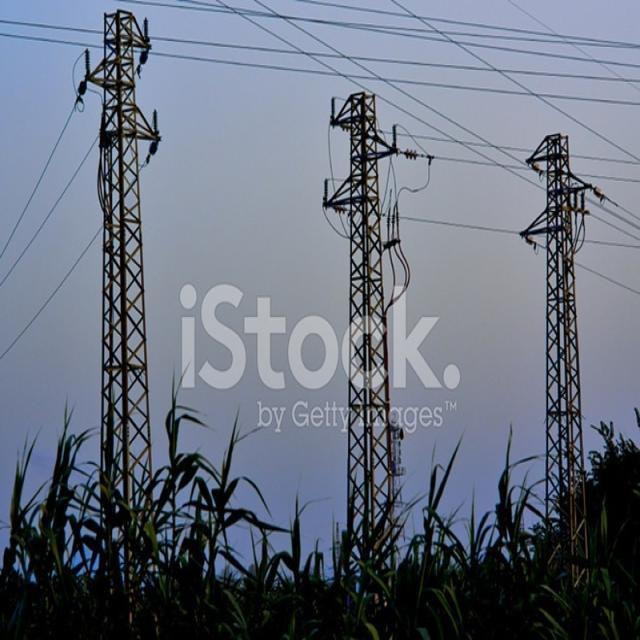non-critical vegetation: (76, 7, 194, 557), (306, 65, 418, 558), (494, 104, 598, 544)
